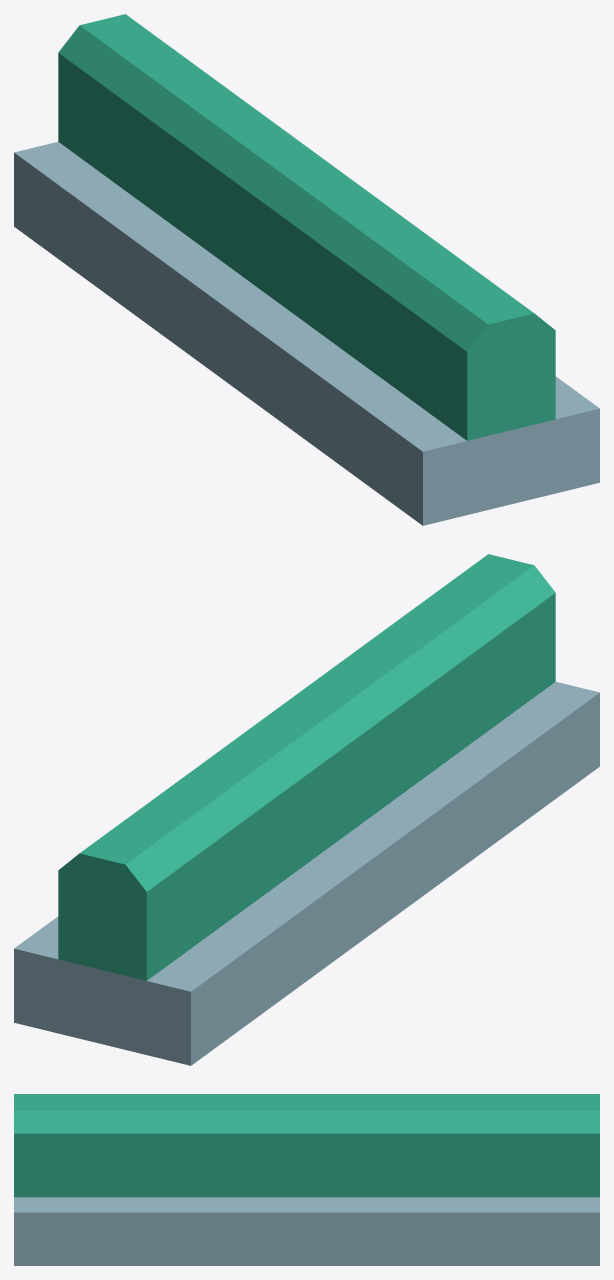
The model's file is hedge.glb.
3 views of the same model, one above another, from view 1: azimuth 30°, elevation 25°; view 2: azimuth 150°, elevation 25°; view 3: azimuth 270°, elevation 25° (orthographic). The views are drawn at different scales.
Parts seen in each view (by area): view 1: hedge; view 2: hedge; view 3: hedge.
Part boxes in pixels (x1,y1,x2,y2): hedge: (14,14,599,525); hedge: (14,554,599,1065); hedge: (14,1094,599,1265).
Bounding box in the file's own units: 0.5 × 0.5 × 2.
